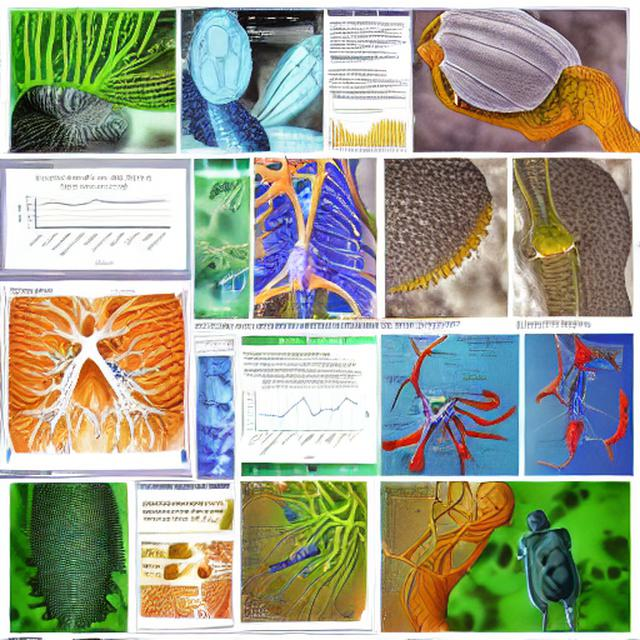Graph: (11, 170, 175, 268), (239, 379, 364, 461), (325, 110, 406, 156)
